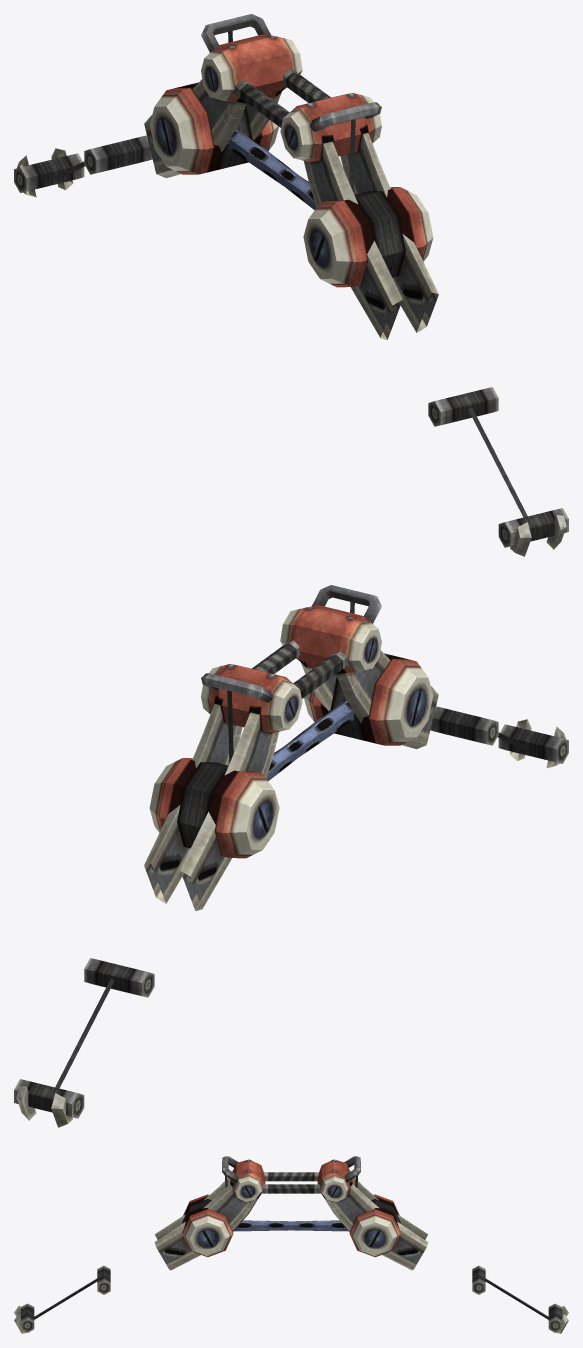
The model's file is Chameleon_specialBow_bow.obj.
3 views of the same model, one above another, from view 1: azimuth 30°, elevation 25°; view 2: azimuth 150°, elevation 25°; view 3: azimuth 270°, elevation 25° (orthographic). The views are drawn at different scales.
Visible parts, largest first — view 1: Chameleon_specialBow_tri [bow]; view 2: Chameleon_specialBow_tri [bow]; view 3: Chameleon_specialBow_tri [bow].
Part boxes in pixels (box(x1,y1,x2,y2)): Chameleon_specialBow_tri [bow]: box(14, 14, 568, 556); Chameleon_specialBow_tri [bow]: box(14, 585, 568, 1127); Chameleon_specialBow_tri [bow]: box(14, 1156, 568, 1333).
Bounding box in the file's own units: 0.1675 × 0.5094 × 1.52.
Materials: 1 (1 with a texture image).
